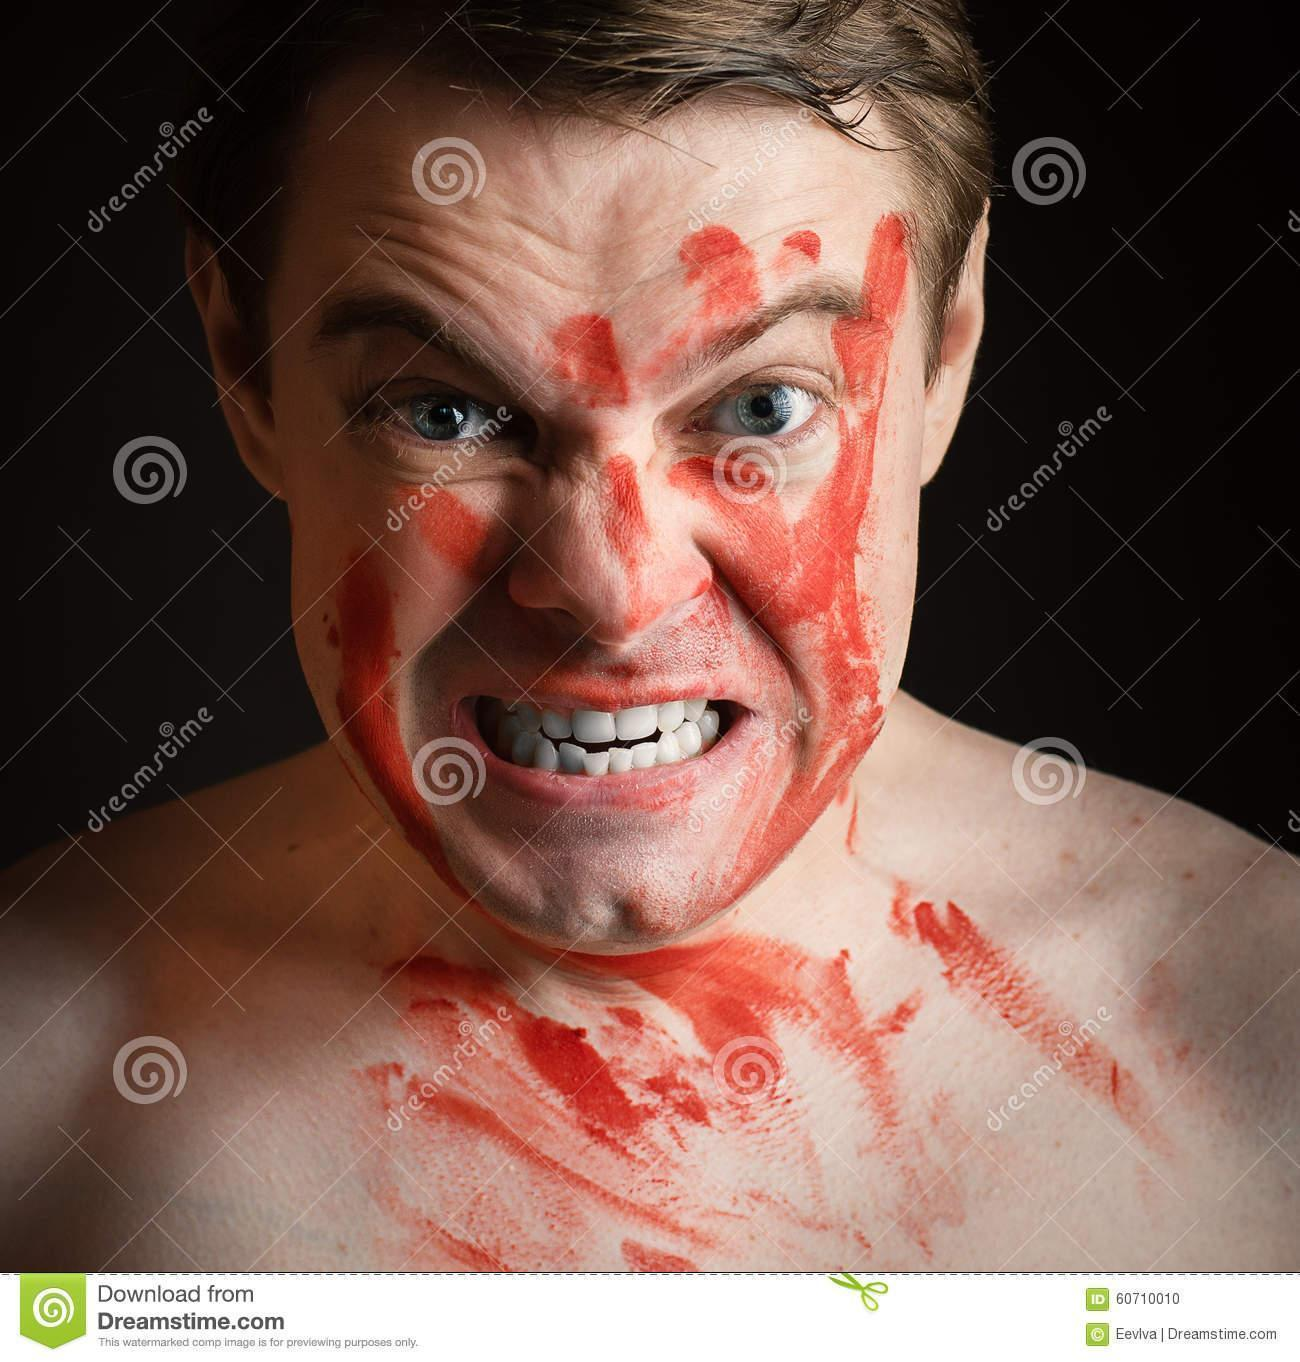Fire: (293, 201, 925, 955), (356, 935, 932, 1271), (891, 880, 1174, 1159)
